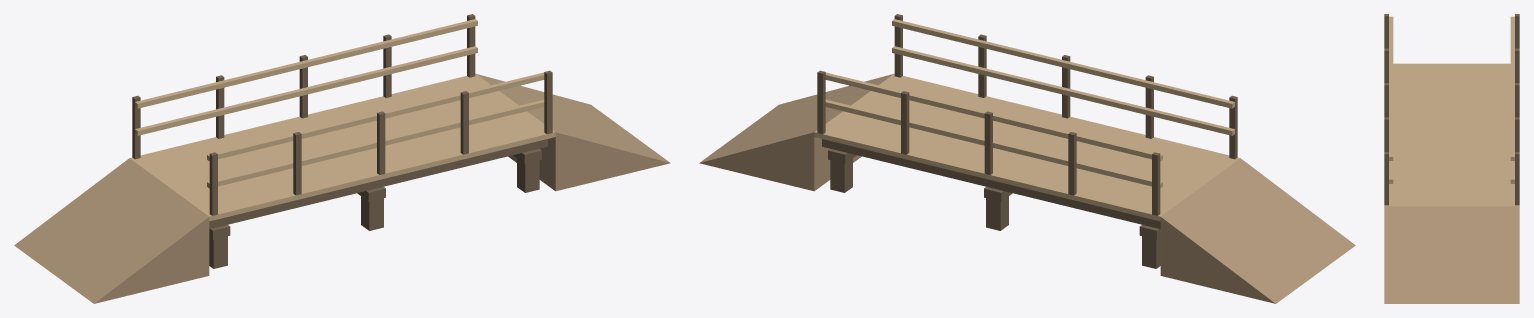
Rendered from wooden_bridge.glb.
3 views of the same model, side by side, from view 1: azimuth 30°, elevation 25°; view 2: azimuth 150°, elevation 25°; view 3: azimuth 270°, elevation 25° (orthographic). The views are drawn at different scales.
Visible parts, largest first — view 1: deck, ramp_w, ramp_e, stringer_0, rail_s_0, rail_s_1, rail_n_0, rail_n_1, bent_1_0, bent_2_0, bent_0_0, rpost_n_3 (+9 smaller); view 2: deck, ramp_w, ramp_e, stringer_1, rail_n_0, rail_n_1, rail_s_0, rail_s_1, bent_1_1, bent_2_1, bent_0_1, rpost_s_3 (+9 smaller); view 3: deck, ramp_e, rail_n_0, rail_s_0, rpost_n_4, rpost_s_4, rpost_n_0, rpost_s_0, rpost_n_1, rpost_s_1, rpost_n_2, rpost_s_2 (+4 smaller).
Boxes of the visible parts, bbox=[...] form: deck: bbox=[129, 74, 555, 221]; ramp_w: bbox=[14, 158, 209, 303]; ramp_e: bbox=[476, 74, 670, 191]; stringer_0: bbox=[209, 139, 547, 229]; rail_s_0: bbox=[135, 19, 477, 108]; rail_s_1: bbox=[135, 46, 477, 135]; rail_n_0: bbox=[207, 72, 544, 160]; rail_n_1: bbox=[207, 99, 544, 188]; bent_1_0: bbox=[361, 196, 383, 230]; bent_2_0: bbox=[517, 158, 539, 192]; bent_0_0: bbox=[209, 236, 227, 268]; rpost_n_3: bbox=[460, 91, 468, 154]; deck: bbox=[814, 74, 1240, 221]; ramp_w: bbox=[1160, 158, 1355, 303]; ramp_e: bbox=[699, 74, 893, 191]; stringer_1: bbox=[822, 139, 1160, 229]; rail_n_0: bbox=[892, 19, 1234, 108]; rail_n_1: bbox=[892, 46, 1234, 135]; rail_s_0: bbox=[825, 72, 1162, 160]; rail_s_1: bbox=[825, 99, 1162, 188]; bent_1_1: bbox=[986, 196, 1008, 230]; bent_2_1: bbox=[830, 158, 852, 192]; bent_0_1: bbox=[1142, 236, 1160, 268]; rpost_s_3: bbox=[901, 91, 909, 154]; deck: bbox=[1384, 63, 1519, 206]; ramp_e: bbox=[1384, 206, 1519, 303]; rail_n_0: bbox=[1389, 16, 1393, 160]; rail_s_0: bbox=[1510, 16, 1514, 160]; rpost_n_4: bbox=[1384, 152, 1388, 205]; rpost_s_4: bbox=[1515, 152, 1519, 205]; rpost_n_0: bbox=[1384, 14, 1388, 48]; rpost_s_0: bbox=[1515, 14, 1519, 48]; rpost_n_1: bbox=[1384, 48, 1388, 82]; rpost_s_1: bbox=[1515, 48, 1519, 82]; rpost_n_2: bbox=[1384, 83, 1388, 117]; rpost_s_2: bbox=[1515, 83, 1519, 117].
Size of the model in its own units: 10 by 1.98 by 2.4.
